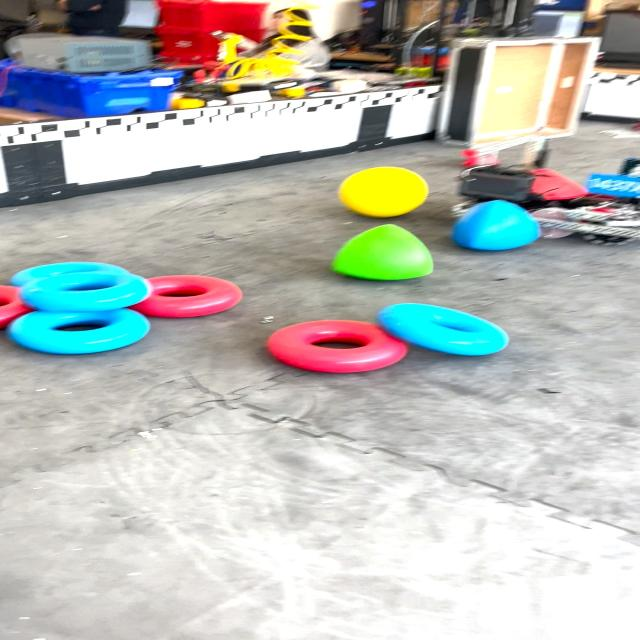Blue-Ring: (378, 304, 509, 355), (7, 309, 149, 354), (20, 272, 151, 311), (11, 262, 129, 286)
Red-Ring: (267, 320, 407, 372), (131, 275, 242, 318)
